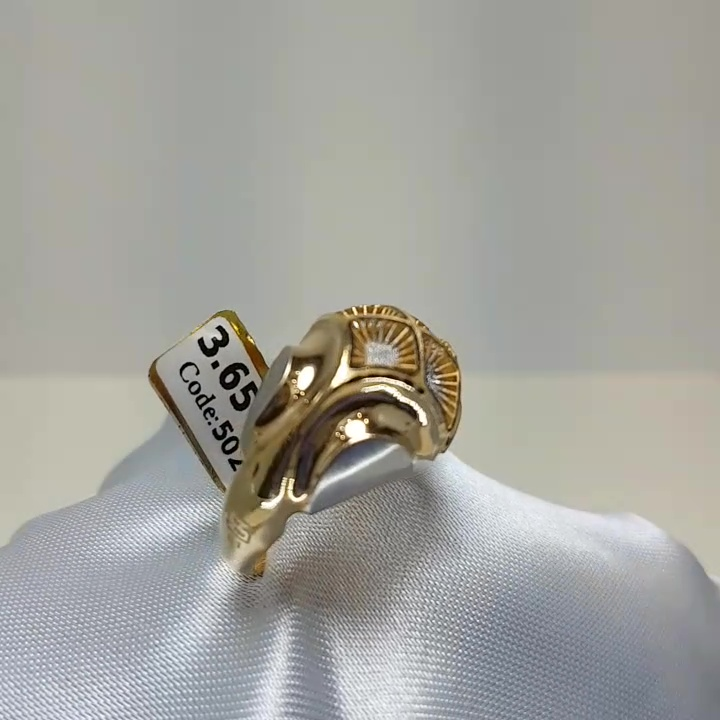Ring 2: (127, 272, 486, 566)
